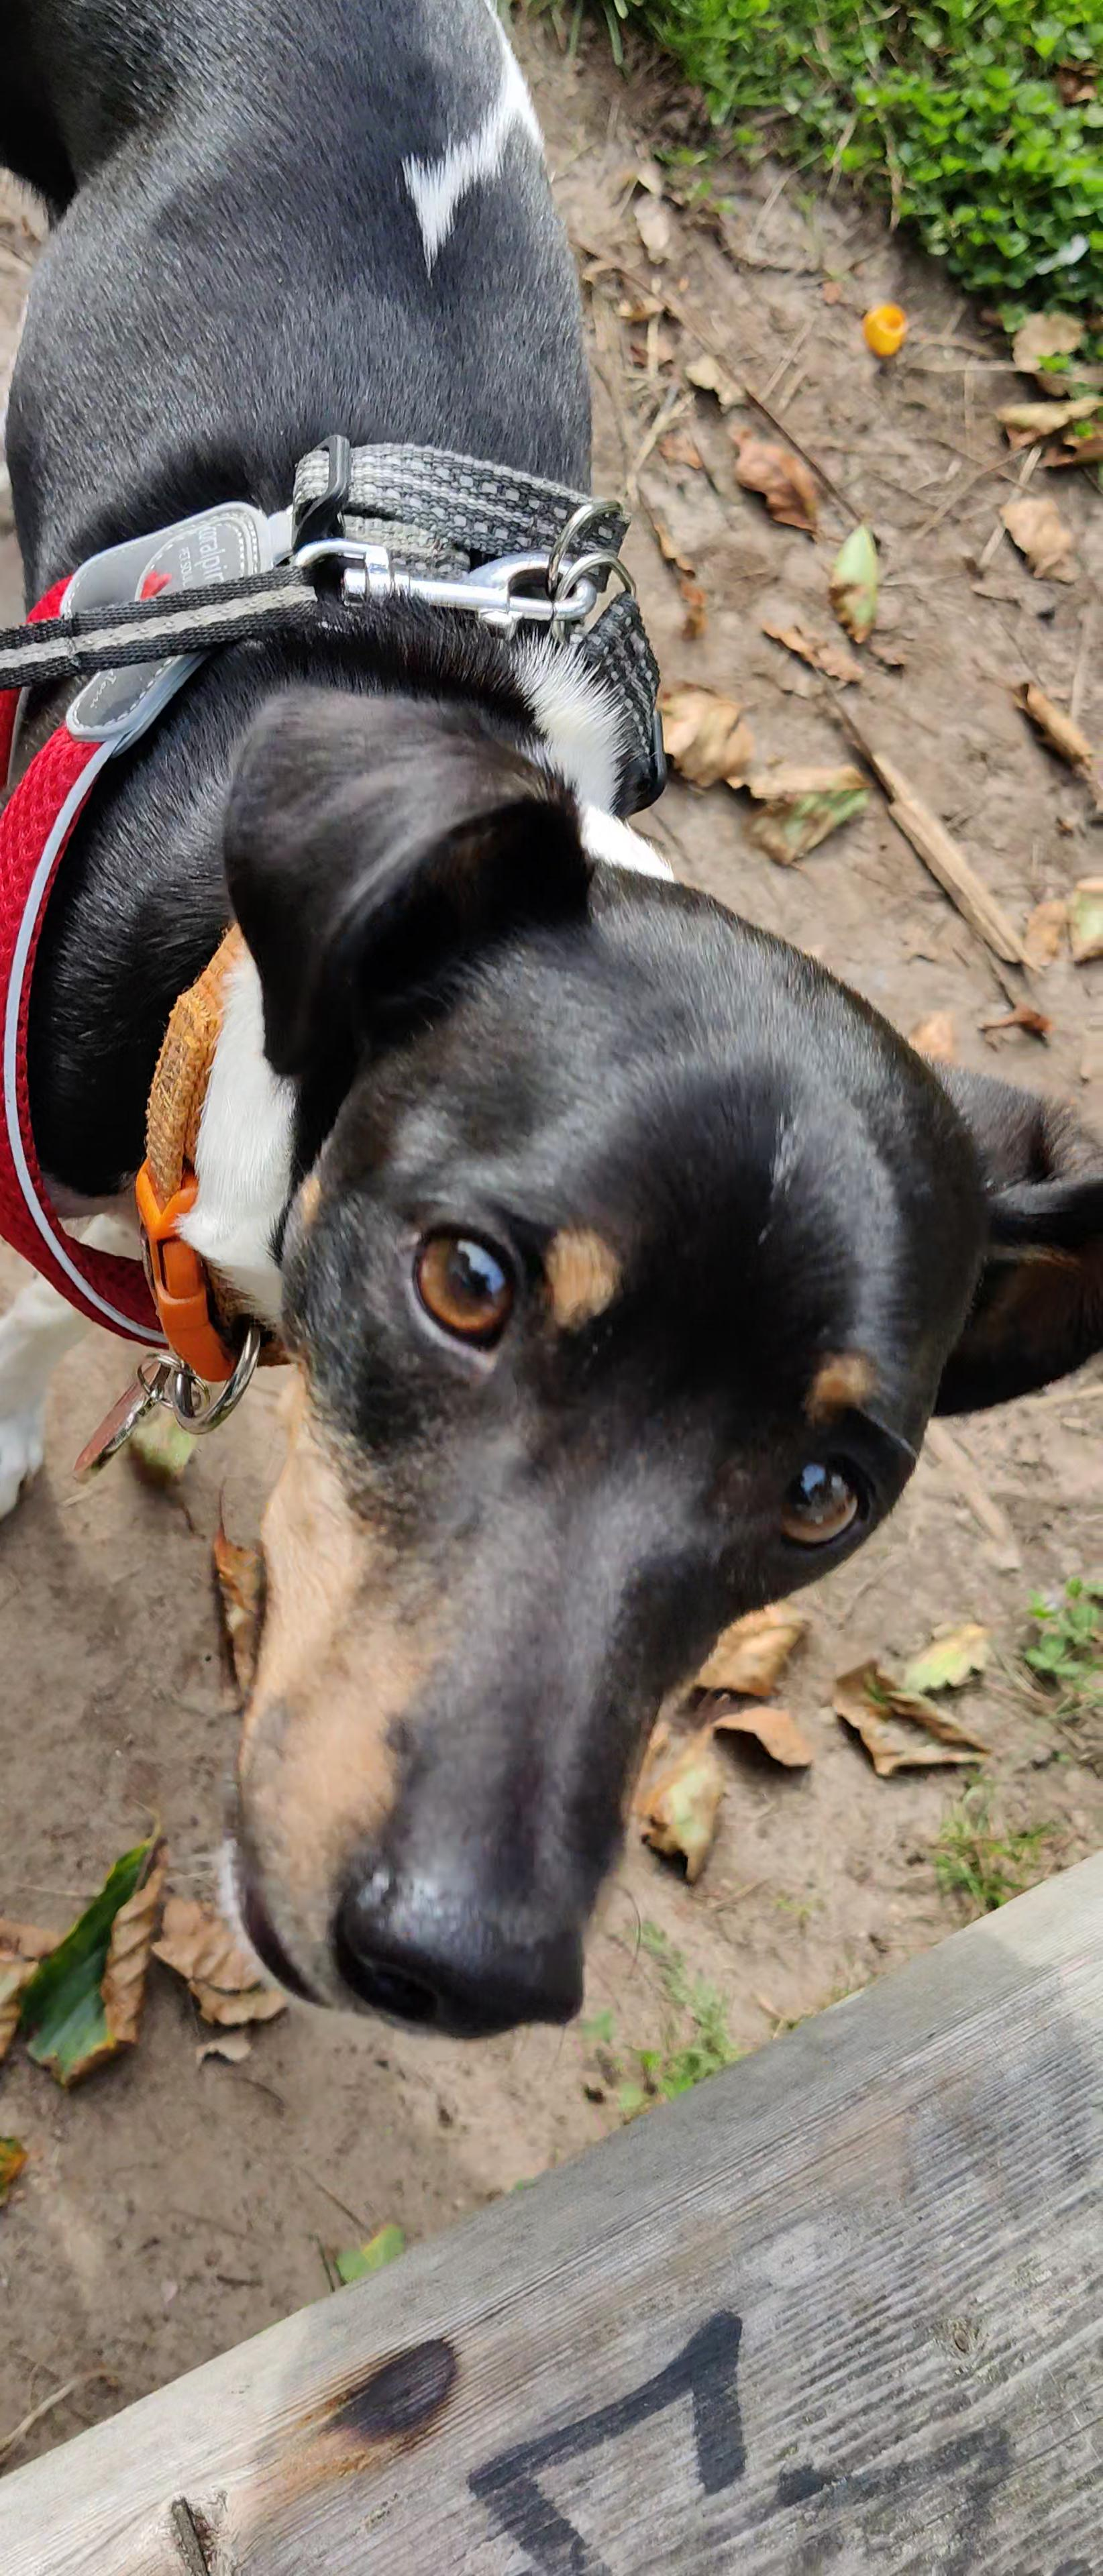Dog: (0, 0, 1103, 2057)
